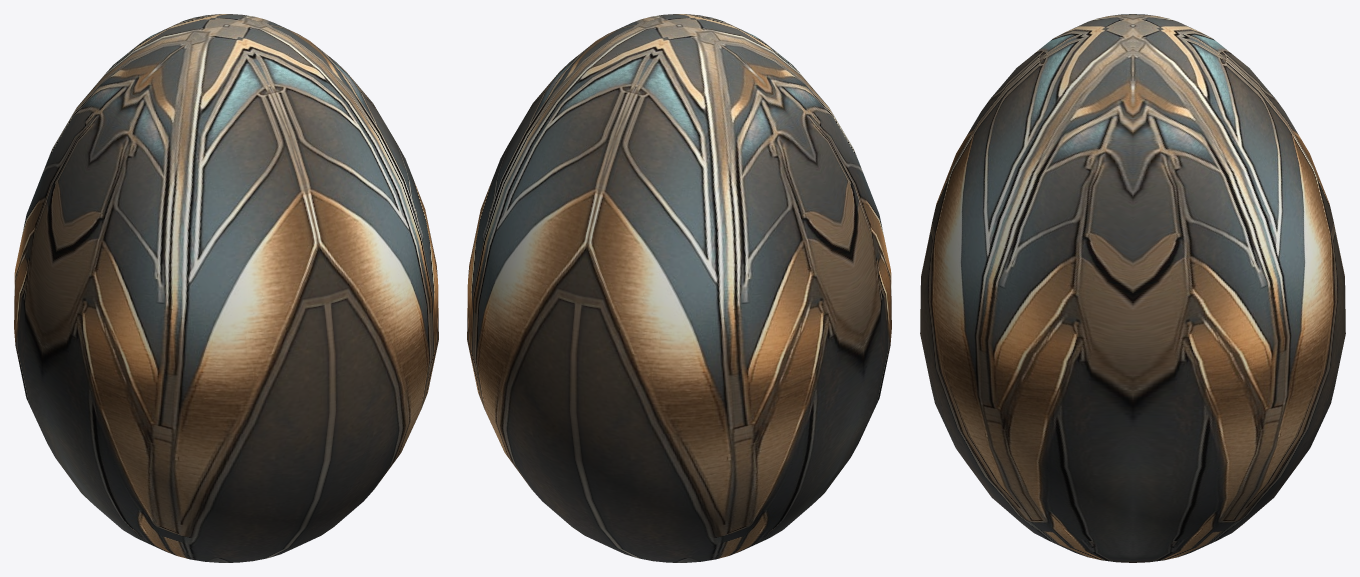
Rendered from egg.glb.
The picture shows the model from 3 angles, left to right: view 1: azimuth 30°, elevation 25°; view 2: azimuth 150°, elevation 25°; view 3: azimuth 270°, elevation 25°; orthographic projection.
Visible parts, largest first — view 1: Egg; view 2: Egg; view 3: Egg.
Boxes of the visible parts, <box> form: Egg: <box>14,14,438,562</box>; Egg: <box>467,14,891,562</box>; Egg: <box>920,14,1345,562</box>.
Size of what is drawn, in the model's own units: 0.0351 by 0.0475 by 0.0351.
1 material, 1 textured.
